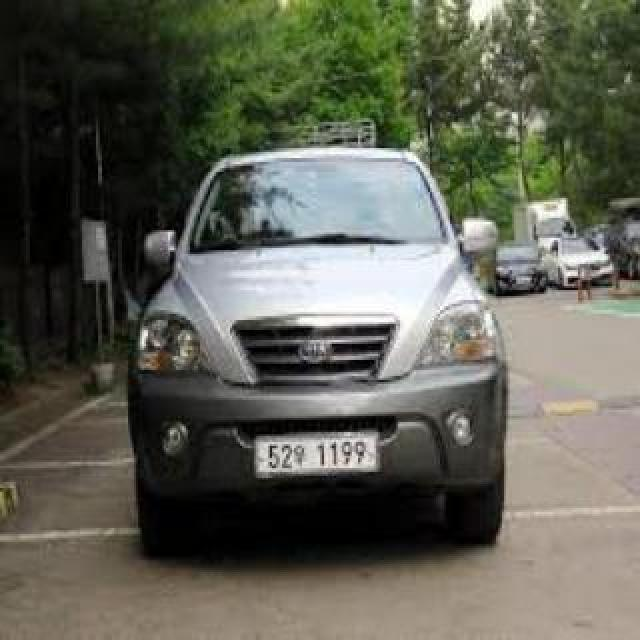car: (123, 142, 518, 562)
illegal_plate: (254, 428, 379, 484)
